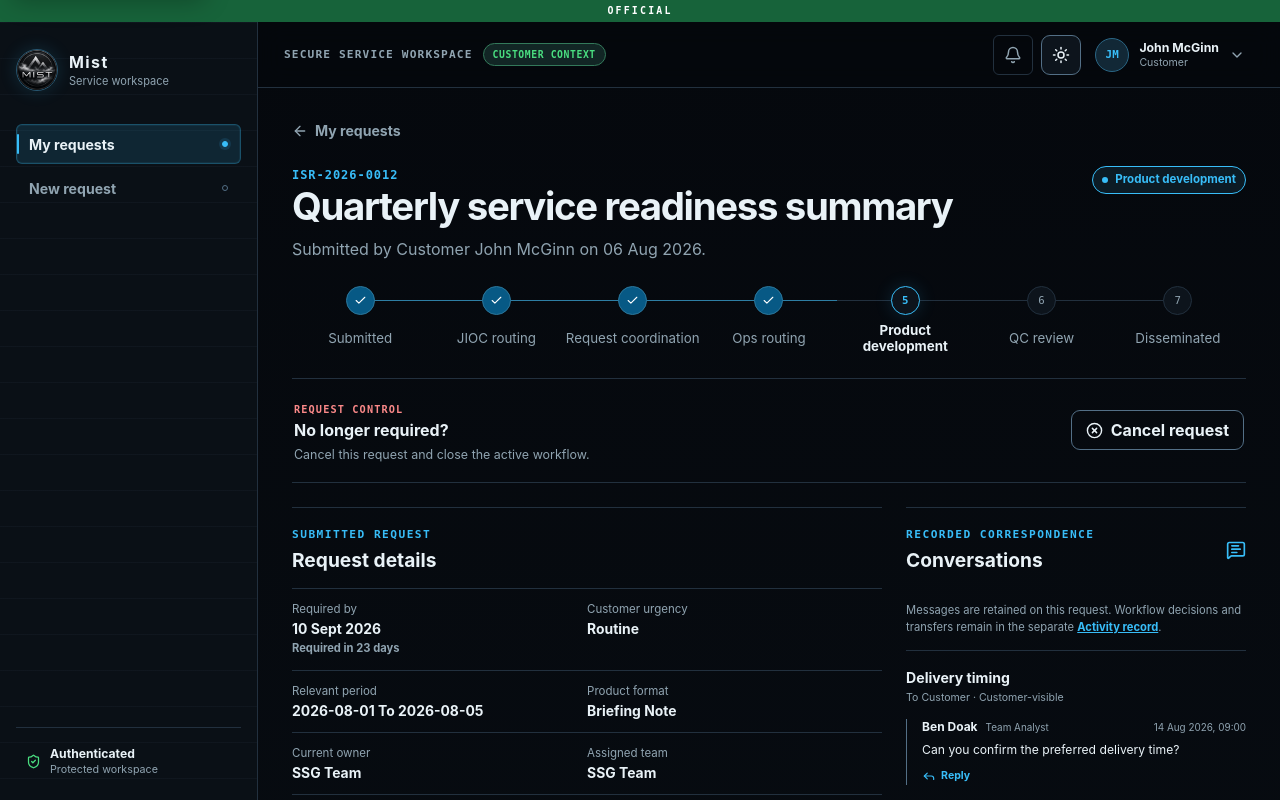
Test: structured request conversations › records a reply in the selected thread without resending its target
Click the button with aria-label "Reply to Ben Doak" at (946, 776), box [922,767,970,785]
(page scrolled)
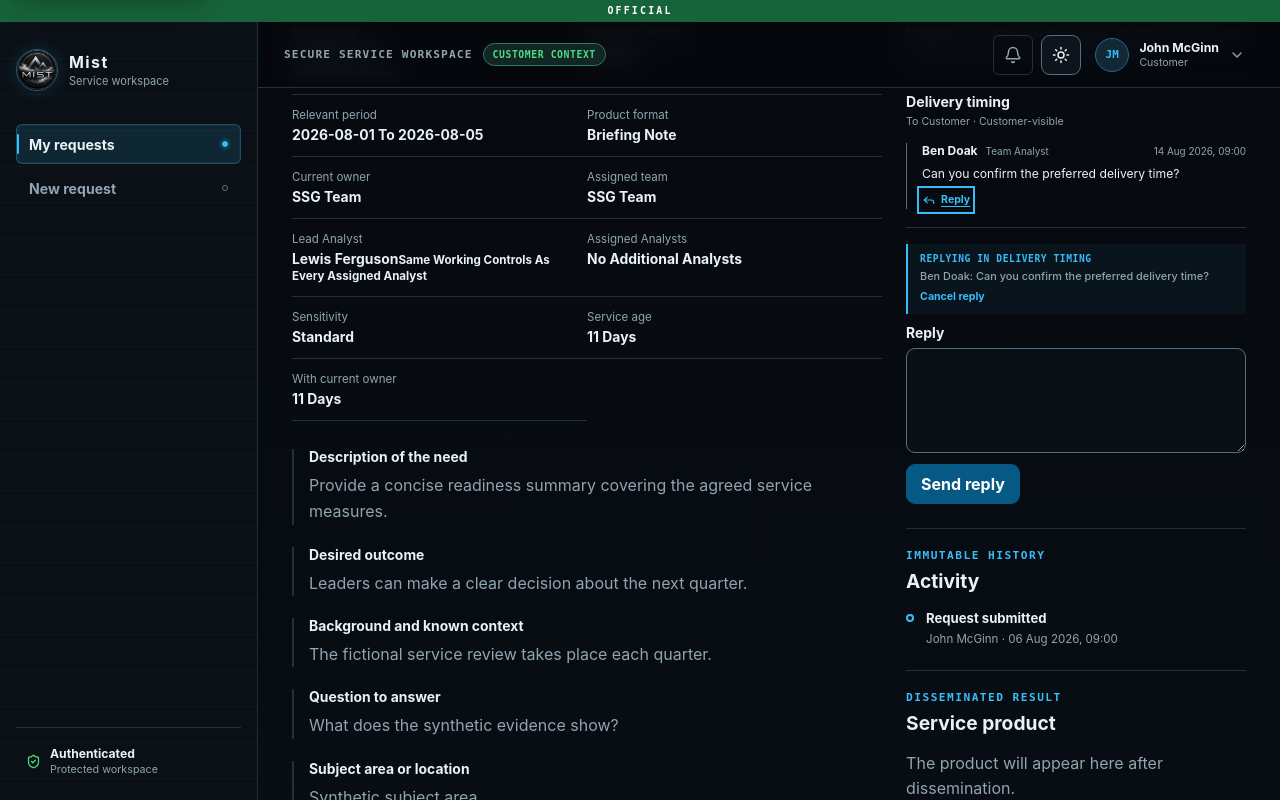
Type "Delivery at 16:00 would be best." into the text box labelled "Reply" at (1076, 400), box [906,348,1246,453]
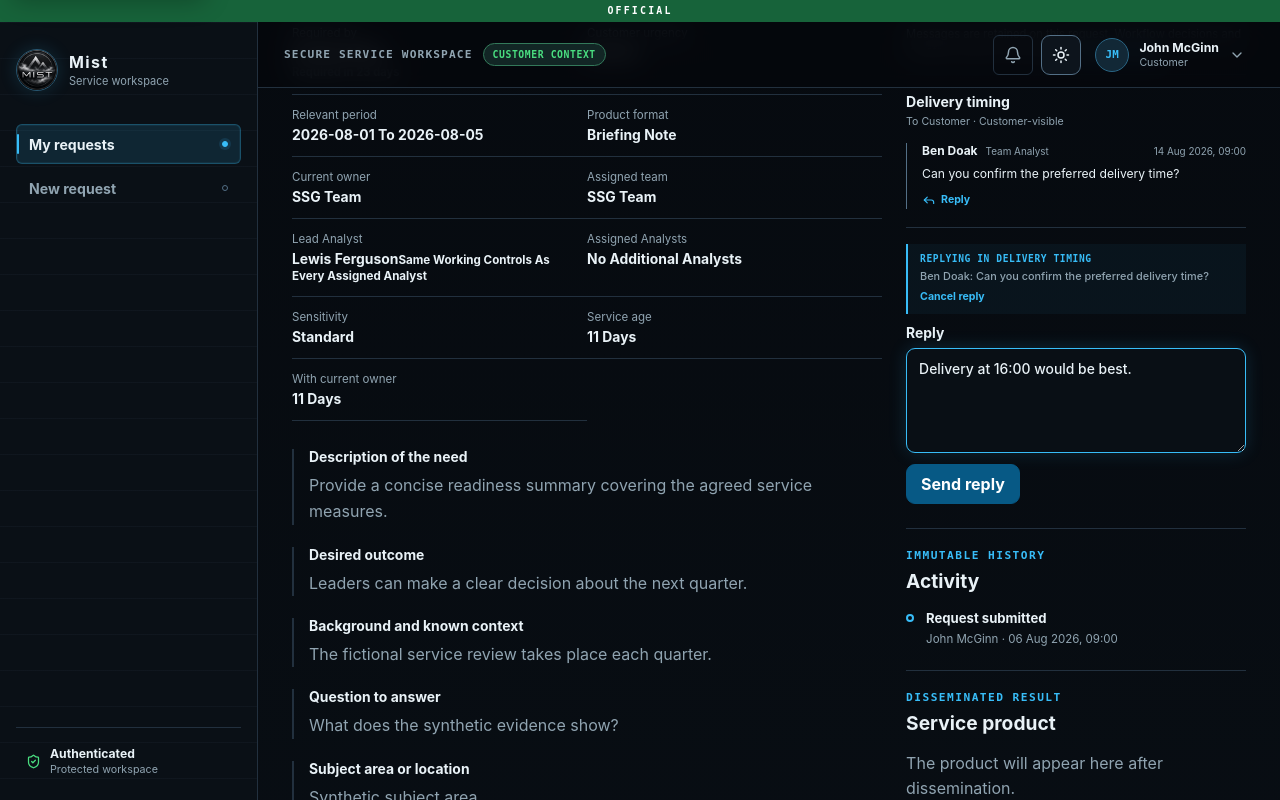
Click the button "Send reply" at (963, 484), box [906,464,1020,504]
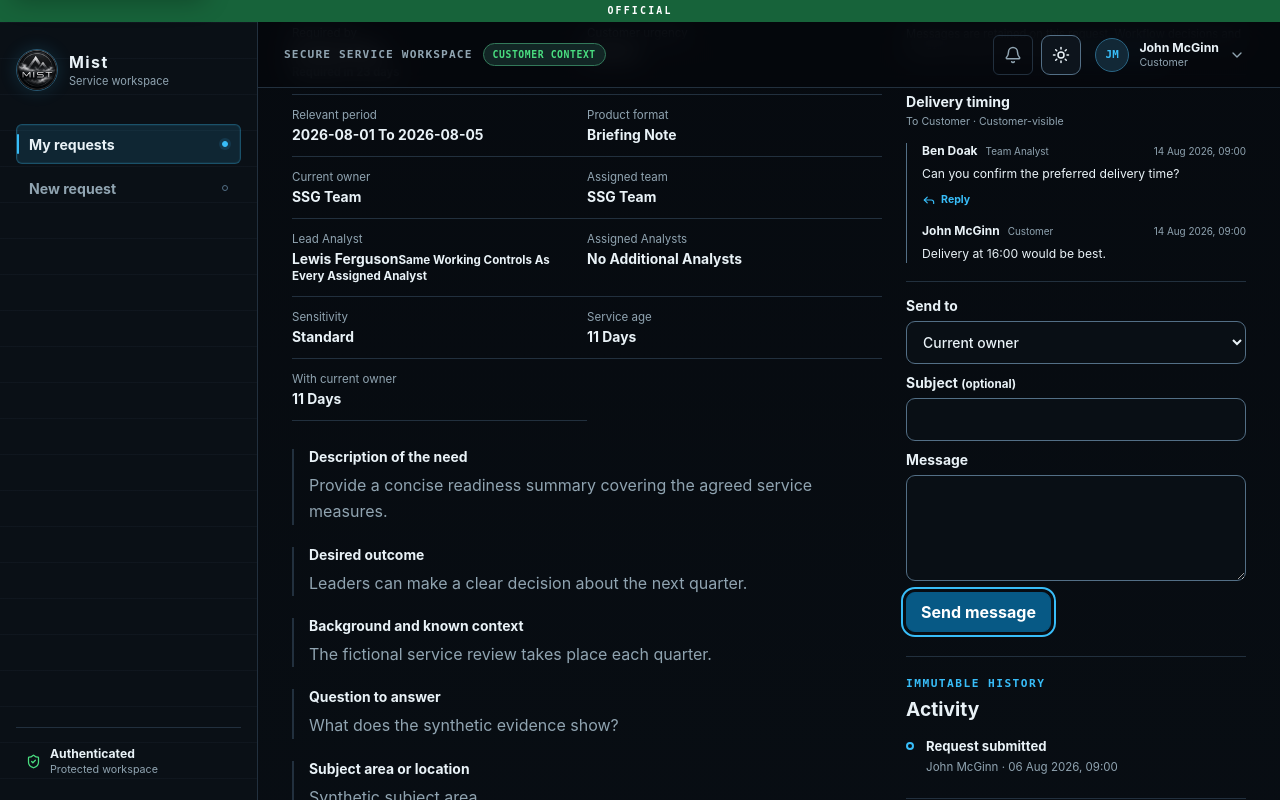
Check: the text "Delivery at 16:00 would be best." is shown, box [922,246,1106,261]
